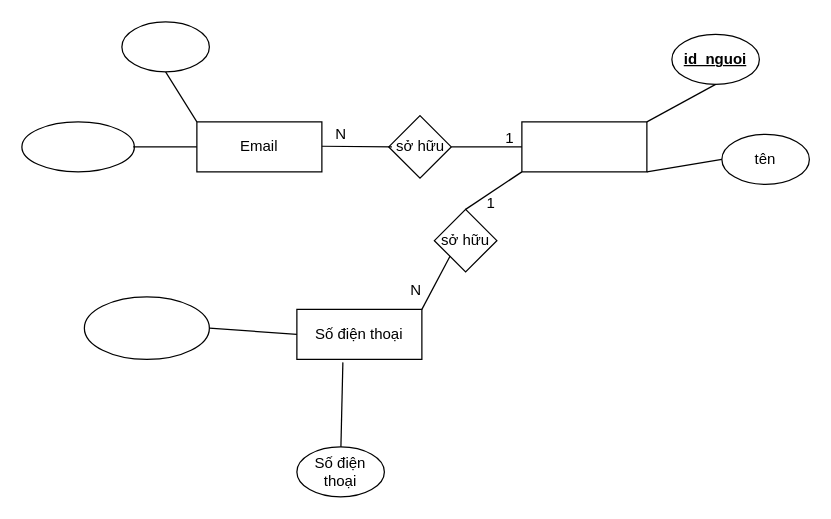
Some shapes in this 831 by 519 pixel diagram are drawn without their labels. Here are the shapes that lost their labels. From the top down, the box of each, then its label:
(121, 21, 209, 72): id_email
(21, 121, 134, 172): dia_chi_email
(521, 121, 647, 172): Người
(83, 296, 209, 359): id_so_dien_thoai
